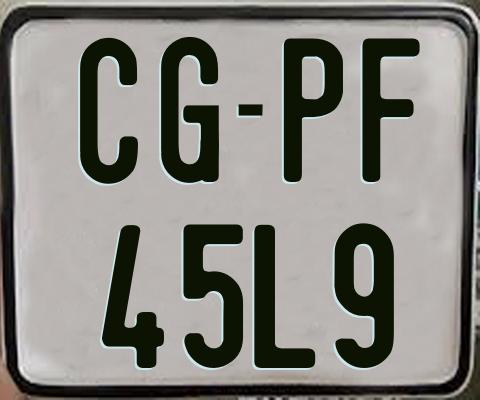4: (102, 222, 169, 371)
5: (182, 224, 247, 373)
9: (333, 222, 395, 367)
C: (79, 35, 143, 185)
F: (359, 37, 423, 184)
G: (160, 35, 219, 185)
L: (252, 222, 316, 371)
P: (284, 35, 343, 180)
